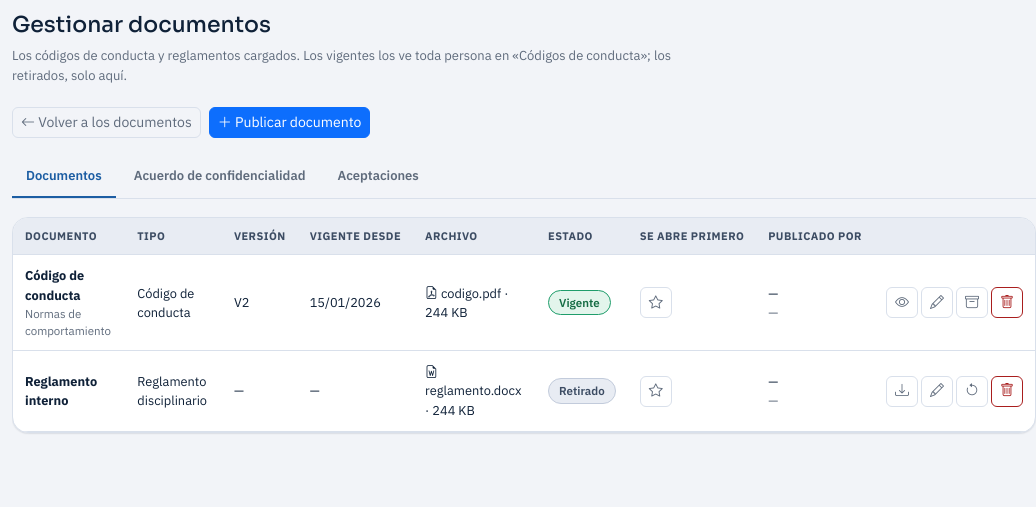
it: Gestionar documentos › marca el documento que se abre primero
What coordinates should you click on to do the following:
click the button named "Abrir primero Código de conducta"
I would click on:
 (656, 303)
Its box is [640,287,672,318].
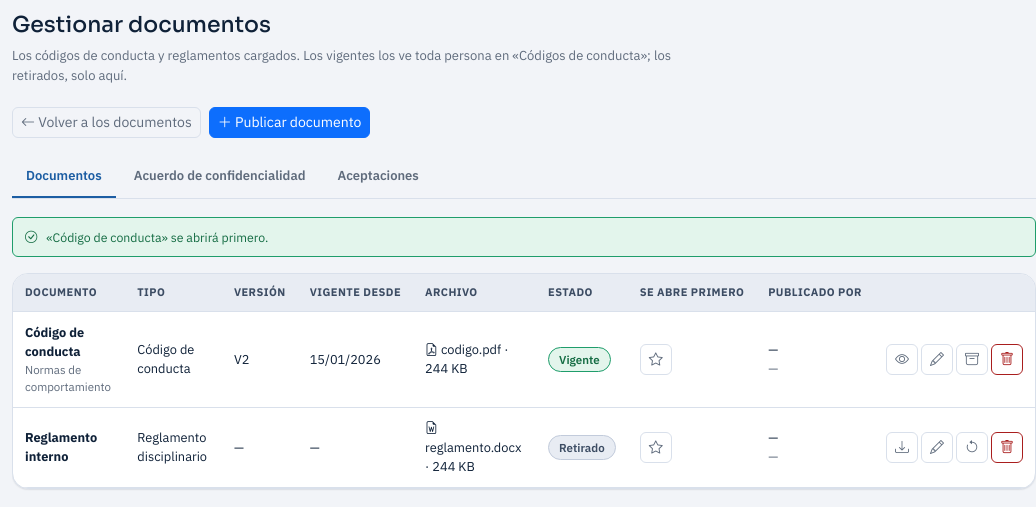
Check: the text "«Código de conducta» se abrirá primero." is shown, box [12,217,1035,257]
